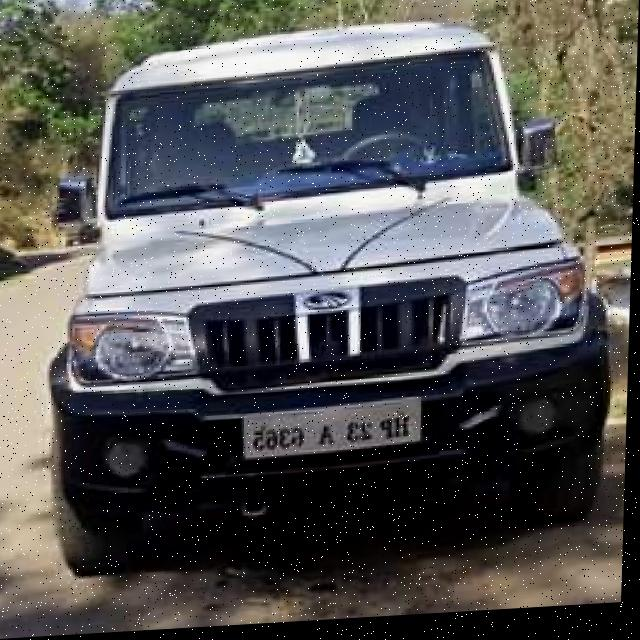plate: (242, 398, 427, 465)
